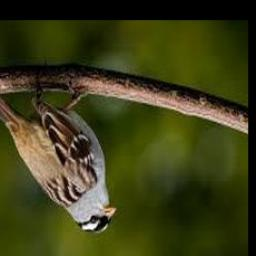Sparrow: (0, 74, 117, 235)
